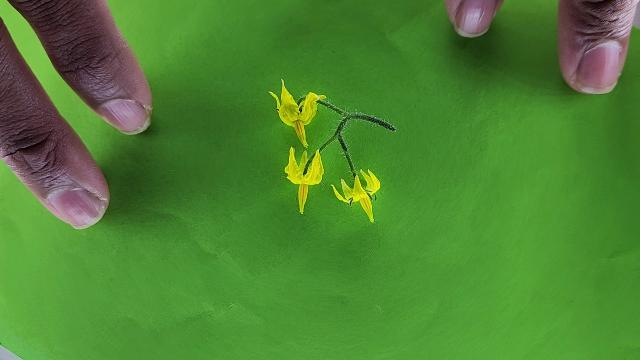Anthesis: (268, 76, 325, 150), (283, 144, 326, 215), (331, 168, 381, 222)
